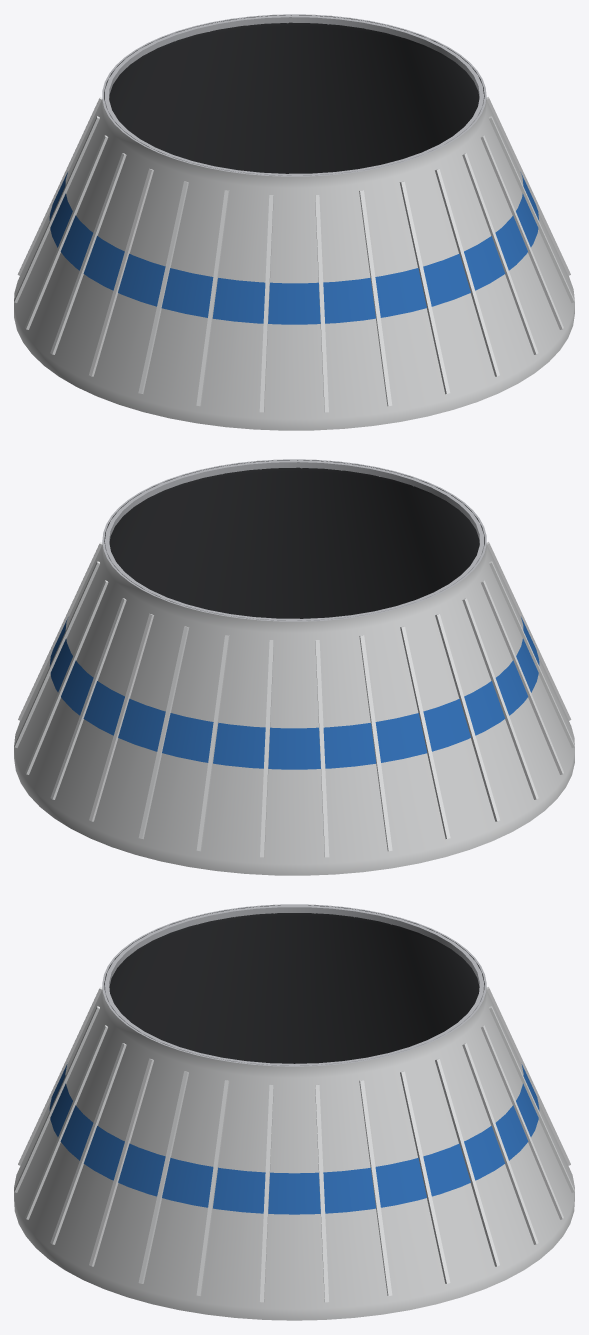
The model's file is adapter_d54_to_d37.glb.
3 renders of one model, top to bottom at view 1: azimuth 30°, elevation 25°; view 2: azimuth 150°, elevation 25°; view 3: azimuth 270°, elevation 25°, orthographic.
Parts seen in each view (by area): view 1: adapter_d54_to_d37_mesh; view 2: adapter_d54_to_d37_mesh; view 3: adapter_d54_to_d37_mesh.
Part boxes in pixels (x1,y1,x2,y2): adapter_d54_to_d37_mesh: (14, 14, 574, 430); adapter_d54_to_d37_mesh: (14, 459, 574, 875); adapter_d54_to_d37_mesh: (14, 904, 574, 1320).
Bounding box in the file's own units: 5.4 × 2.3 × 5.4.
